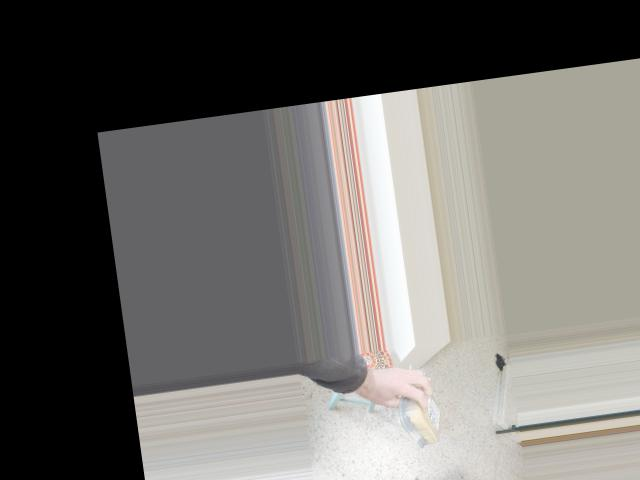cheese: (392, 371, 448, 452)
